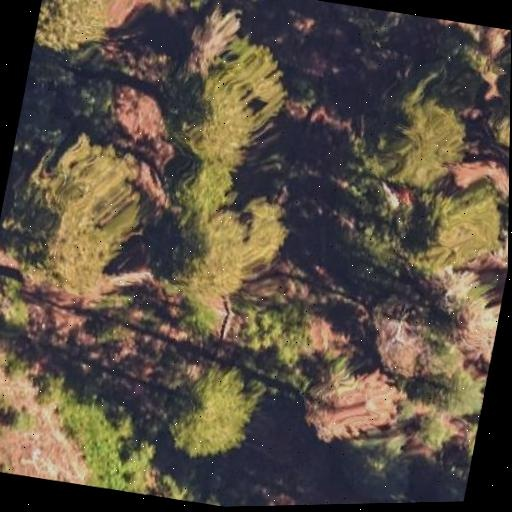tree-top: (0, 129, 170, 302), (152, 30, 298, 202), (351, 69, 482, 201), (153, 352, 270, 472), (151, 195, 266, 305), (53, 397, 169, 498), (297, 352, 405, 454), (408, 176, 509, 285), (223, 271, 321, 375), (397, 330, 493, 435), (356, 288, 453, 374), (162, 4, 239, 89), (230, 188, 307, 271), (32, 0, 126, 61), (475, 42, 511, 158), (0, 439, 16, 474), (0, 354, 7, 417)
